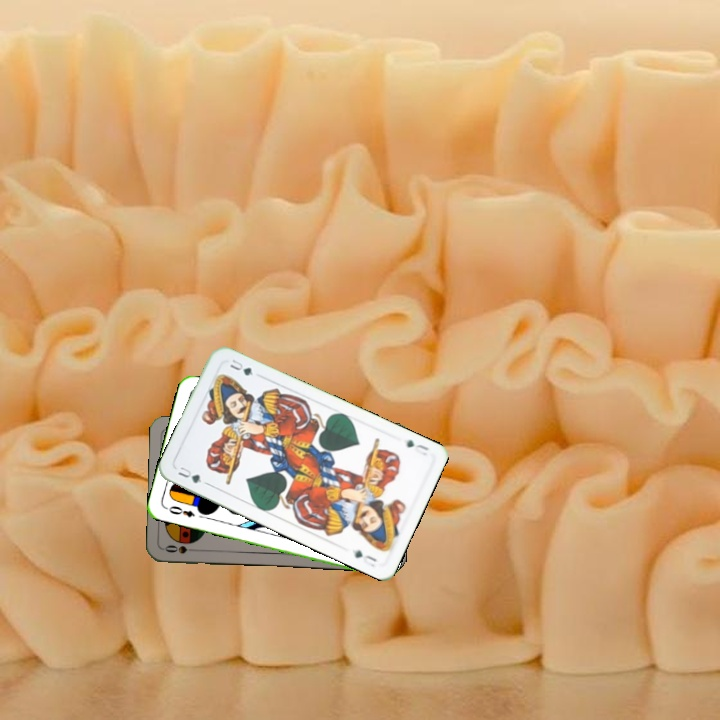EO: (161, 502, 197, 520)
GU: (174, 463, 204, 486), (402, 435, 431, 458)
SO: (161, 541, 201, 556)
